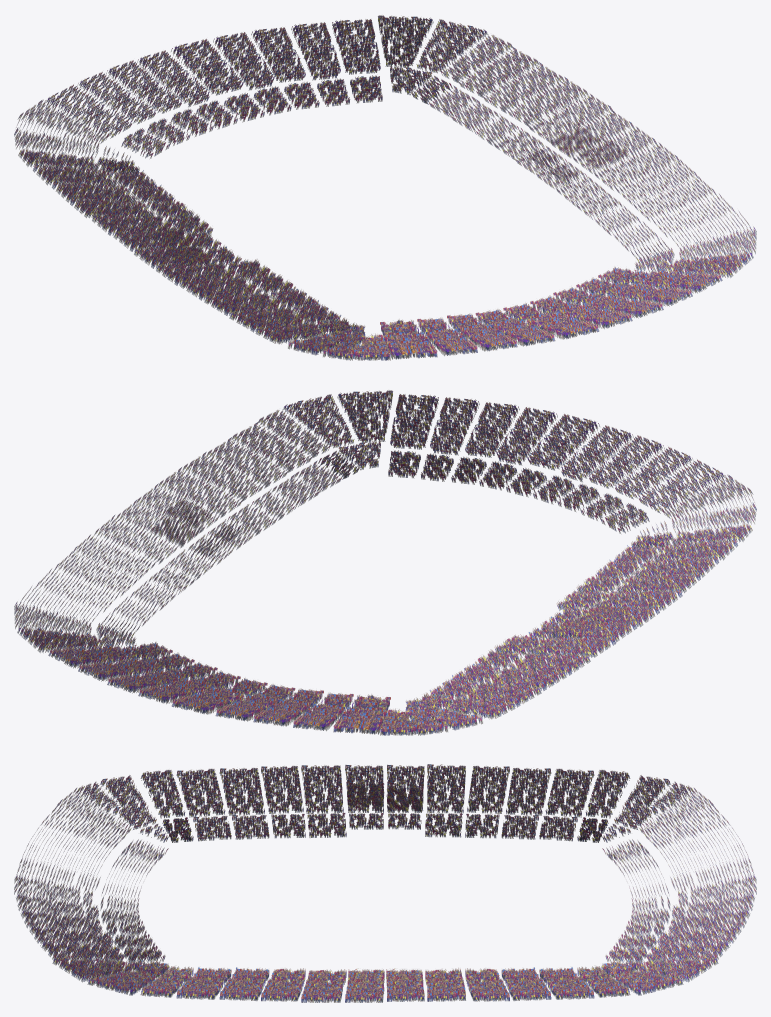
The model's file is audience.obj.
3 renders of one model, top to bottom at view 1: azimuth 30°, elevation 25°; view 2: azimuth 150°, elevation 25°; view 3: azimuth 270°, elevation 25°, orthographic. The views are drawn at different scales.
Parts seen in each view (by area): view 1: no part large enough to name; view 2: no part large enough to name; view 3: fans_pivot.7_17, fans_pivot.7_18, fans_pivot.7_16, fans_pivot.7_1, fans_pivot.7_15, fans_pivot.2747_18, fans_pivot.2747_17, fans_pivot.2747_16, fans_pivot.2780_26, fans_pivot.2780_25, fans_pivot.2747_15, fans_pivot.2780_27 (+4 smaller).
Part boxes in pixels (x1,y1,x2,y2): fans_pivot.7_17: (219,768,551,1000); fans_pivot.7_18: (176,768,594,999); fans_pivot.7_16: (261,766,509,1001); fans_pivot.7_1: (87,978,683,995); fans_pivot.7_15: (142,770,628,997); fans_pivot.2747_18: (177,770,593,998); fans_pivot.2747_17: (220,769,550,1000); fans_pivot.2747_16: (261,767,509,1000); fans_pivot.2780_26: (224,771,546,999); fans_pivot.2780_25: (265,769,505,1000); fans_pivot.2747_15: (140,771,630,996); fans_pivot.2780_27: (181,772,589,998).
Size of the model in its own units: 142 by 9.05 by 191.
3 materials, 3 textured.
